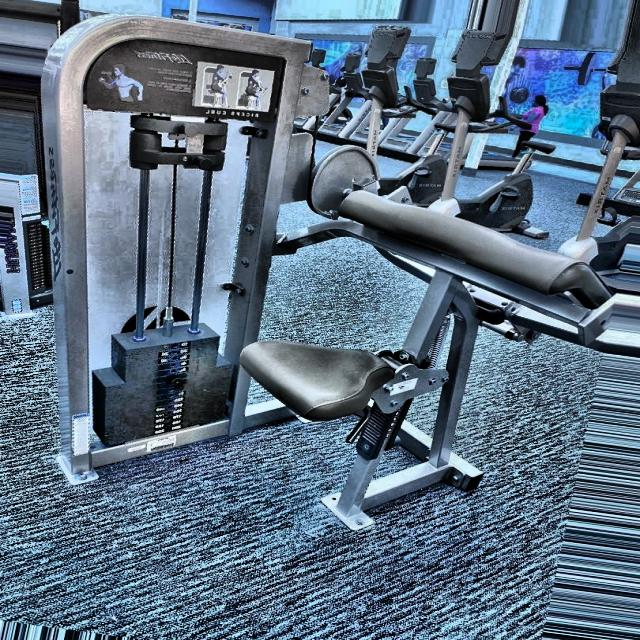bicep_curl_machine: (298, 128, 638, 384), (85, 36, 282, 132)
